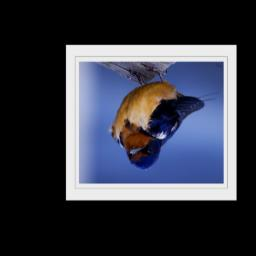Swallow: (108, 63, 219, 172)
